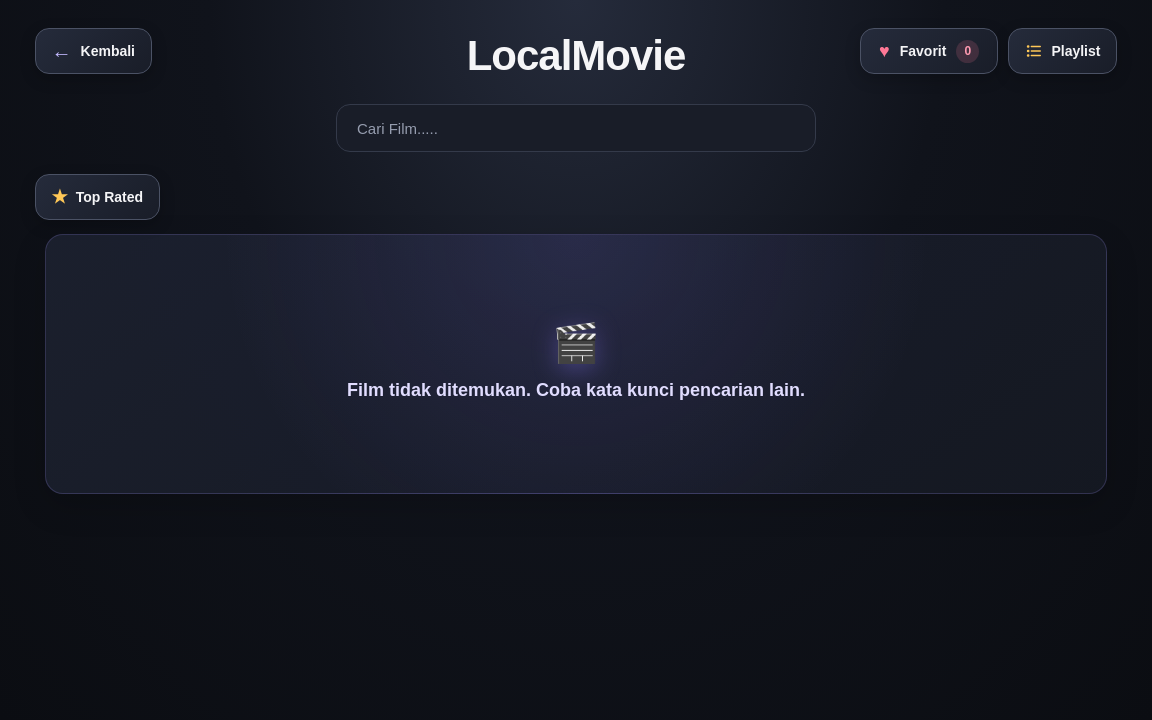
returns to the popular movie list with the back button
Click the button "★ Top Rated": [97, 197] box [34,174,160,220]
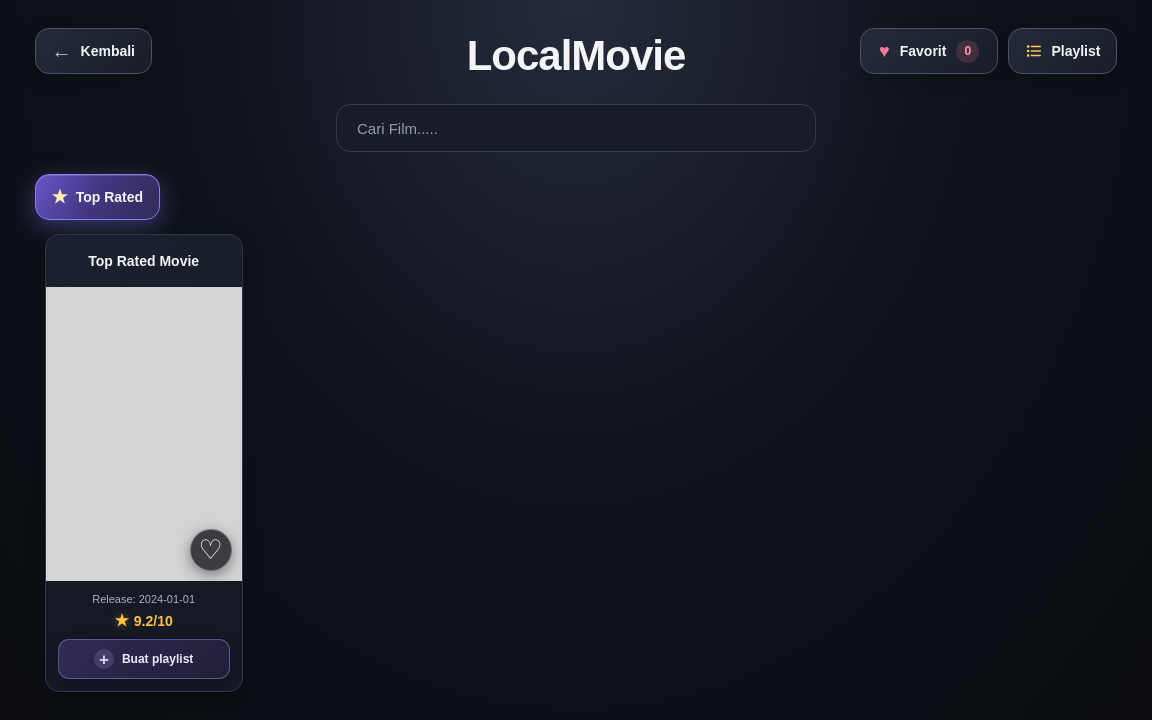
Check: the button "Top Rated Movie" is shown, box [46,235,242,287]
Click the button with aria-label "kembali ke daftar film": [93, 51] box [34,28,152,74]
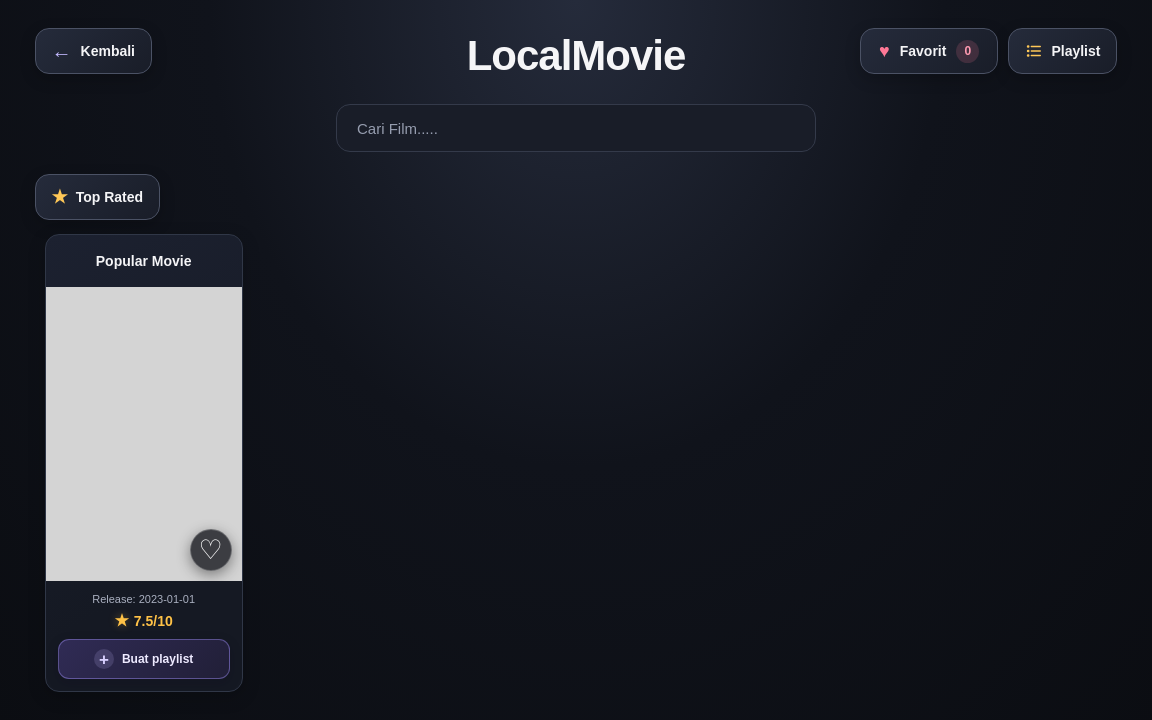
Check: the button "Popular Movie" is shown, box [46,235,242,287]
